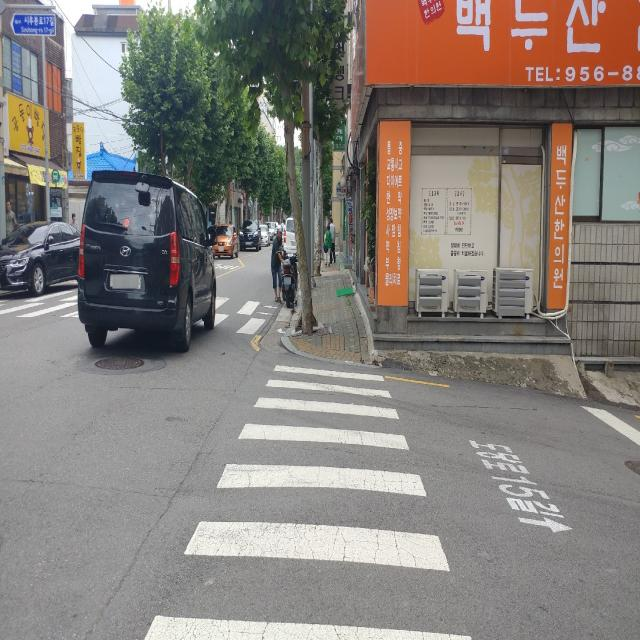횡단보도: (140, 358, 475, 640), (38, 292, 263, 334)
